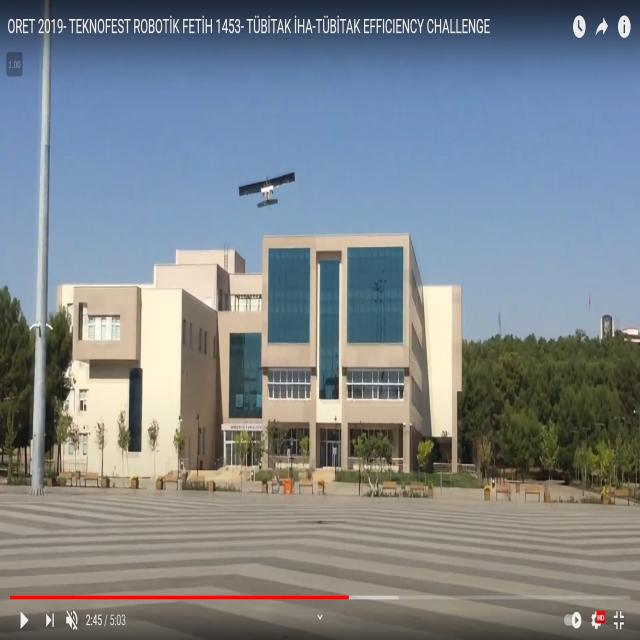iha: (232, 172, 289, 209)
